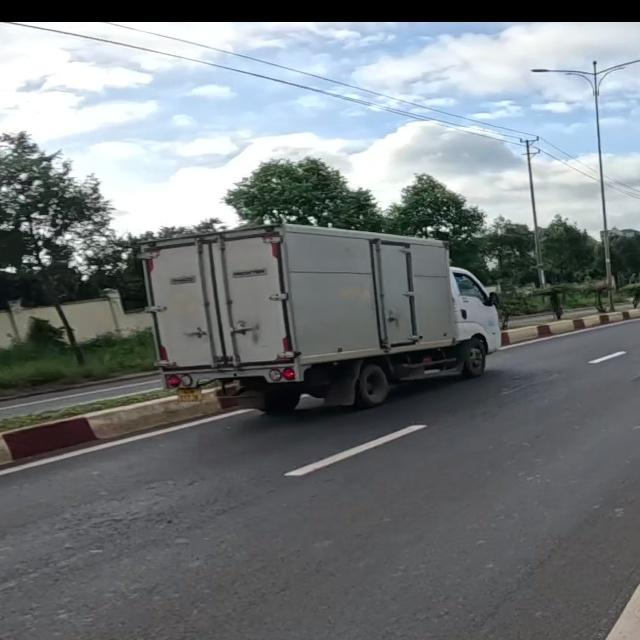license-plate: (178, 388, 201, 402)
